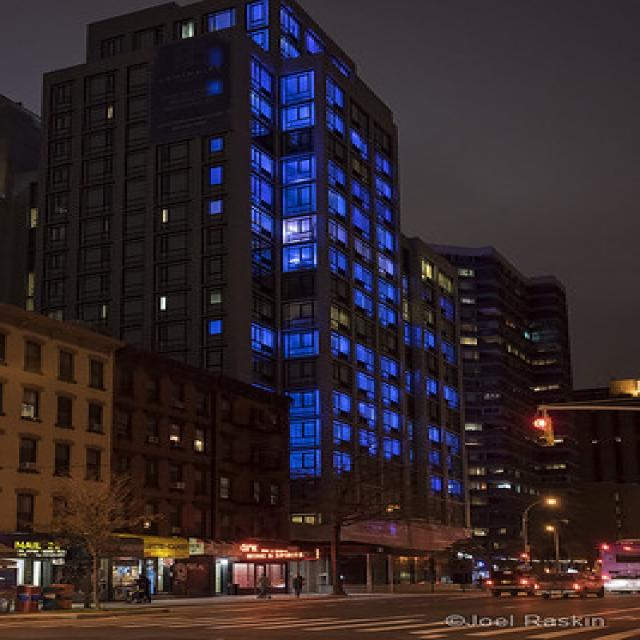Normal_building: (32, 5, 416, 590)
